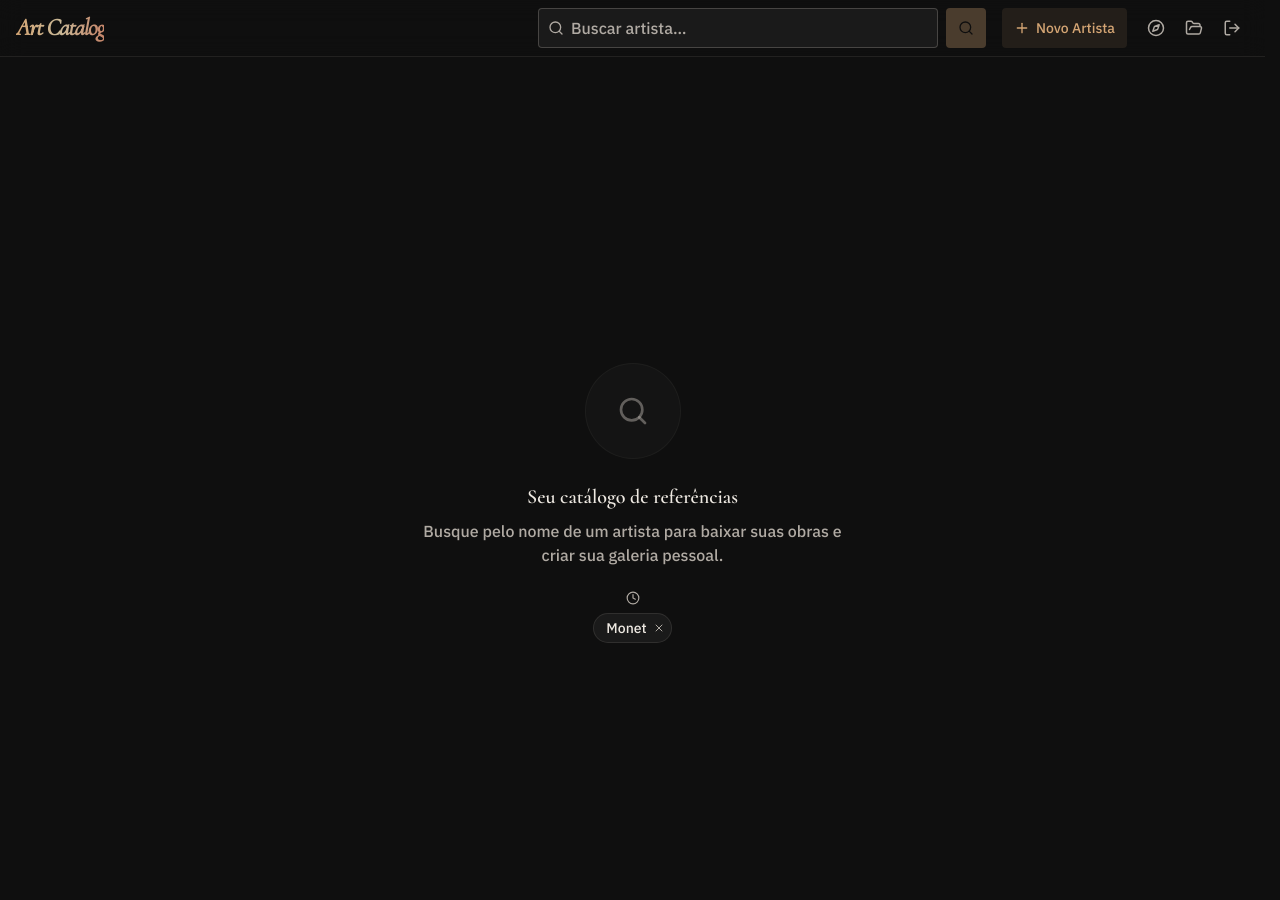
Test: SearchPage › updates displayed count when slider changes in artist toolbar
This screenshot has width=1280, height=900.
Type "Monet" into the field with placeholder "Buscar artista…".
click(738, 28); type("Monet")  # box [538,8,938,48]
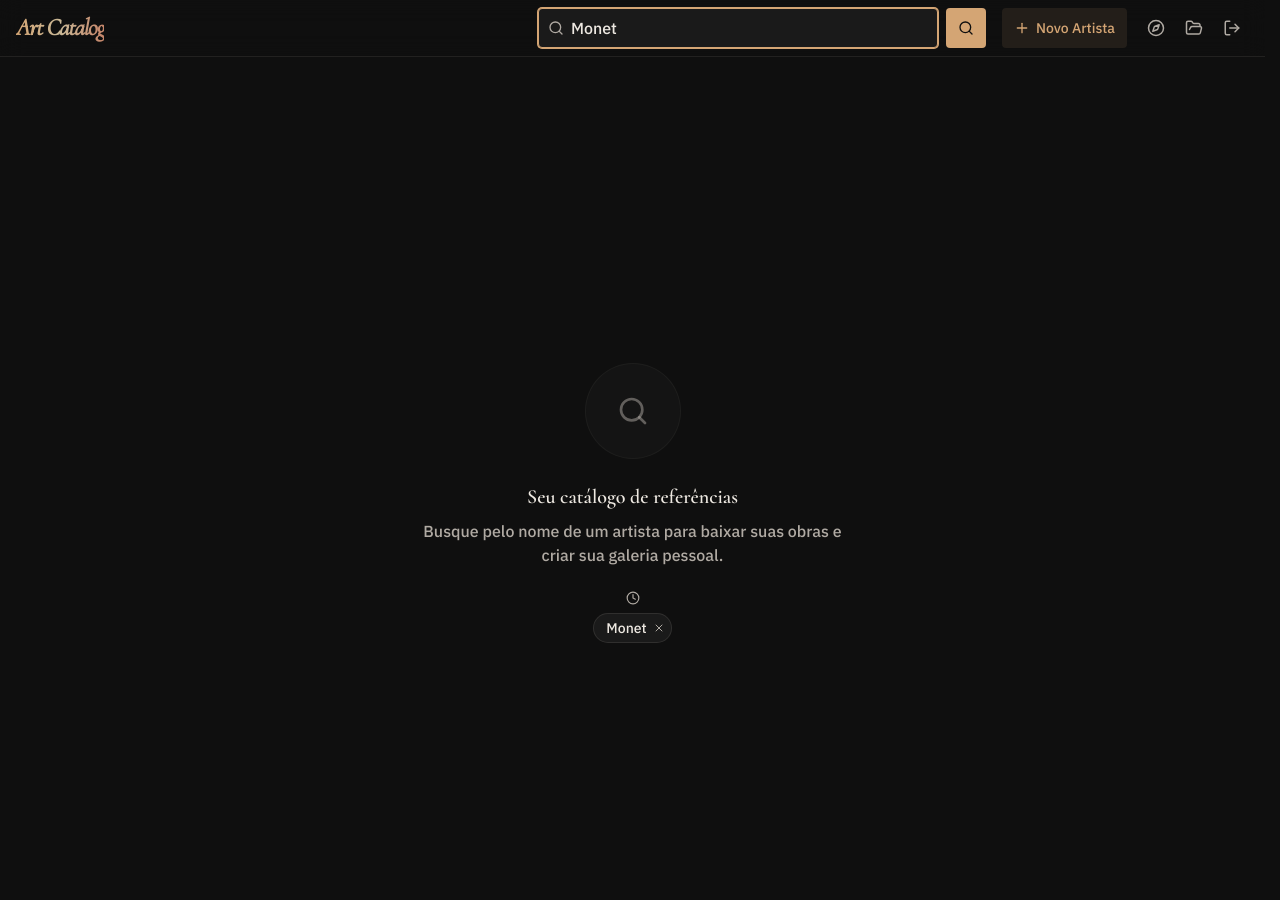
Click the button named "Buscar".
click(966, 28)  # box [946,8,986,48]
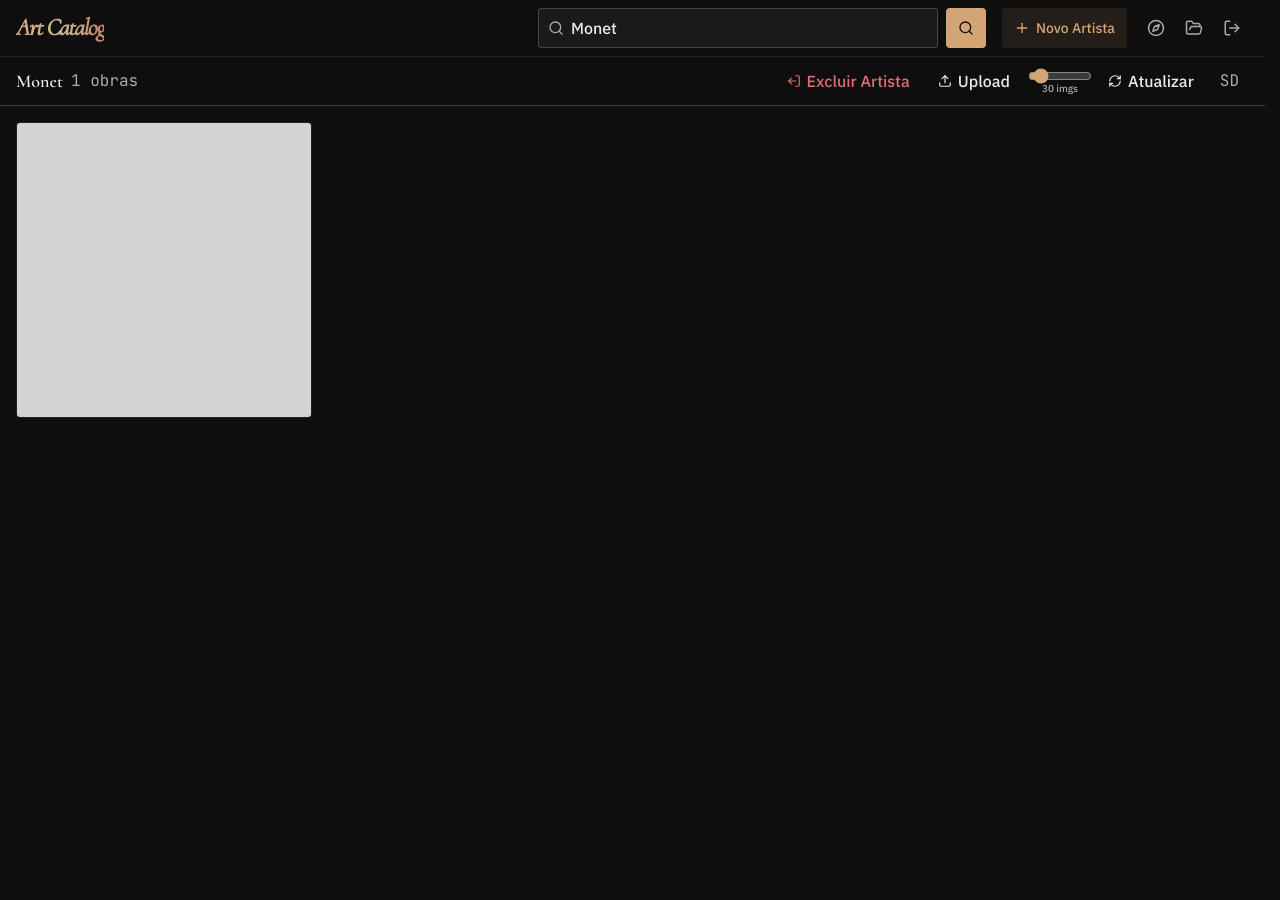
Expected: the slider named "Limite de imagens" is shown
Set the slider named "Limite de imagens" to "100" at [1059, 76], box [1028,68,1092,84]
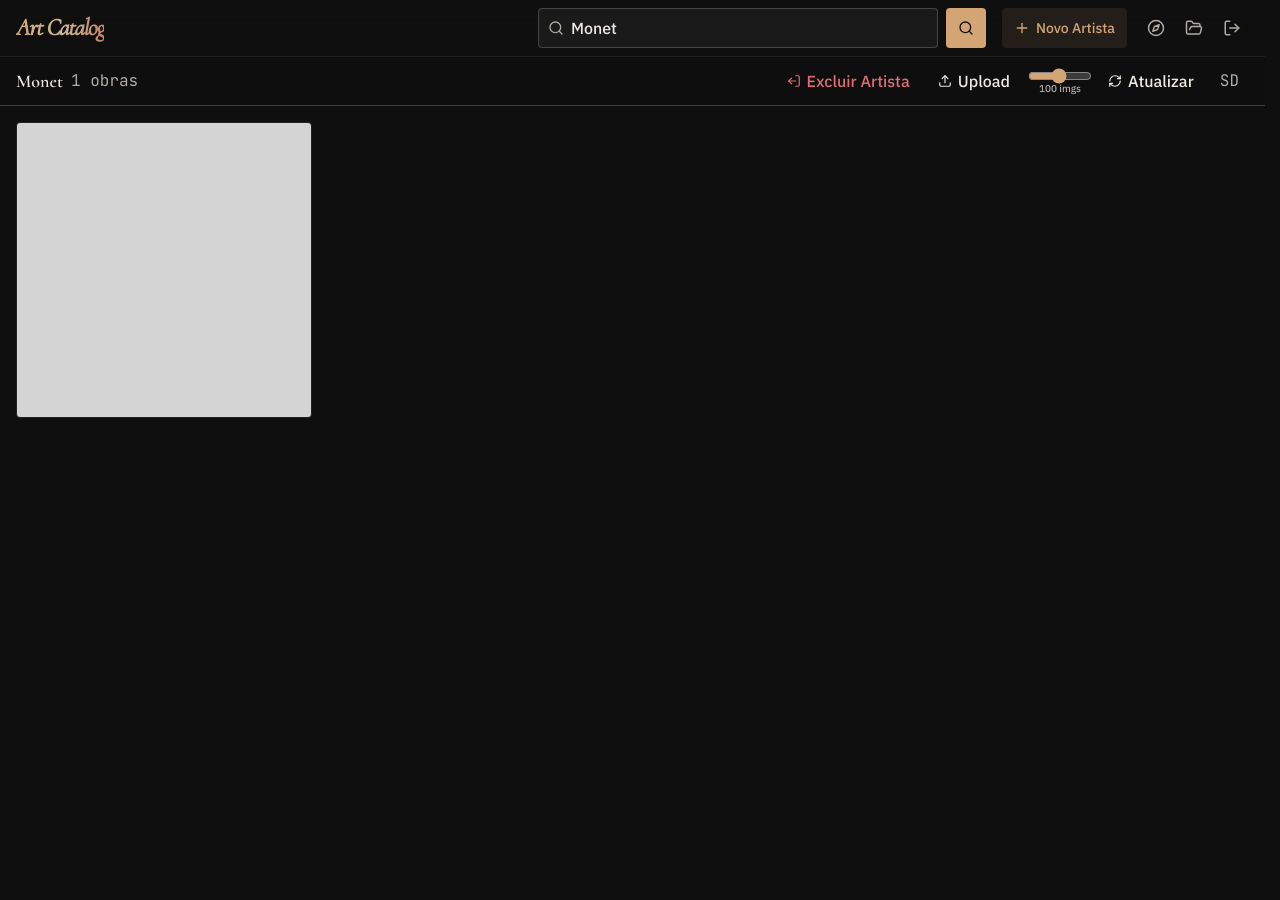
Expected: the text "100 imgs" is shown, [1039,84,1081,94]
